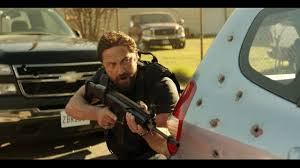gun: (77, 76, 181, 144)
